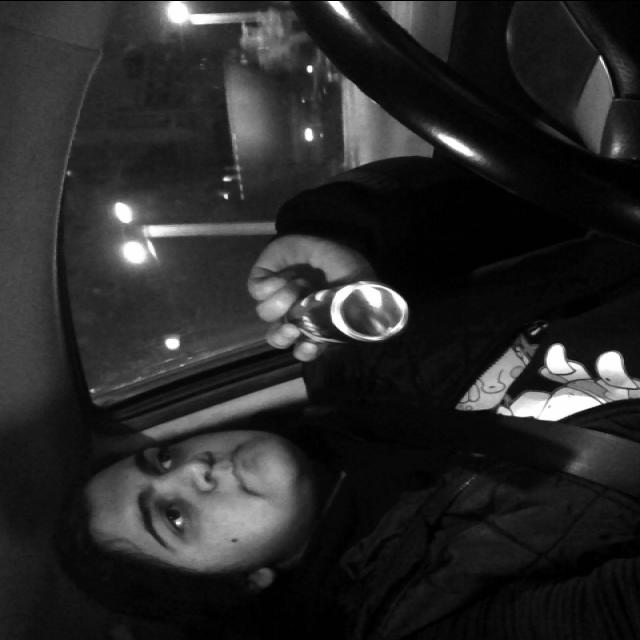drinking: (274, 281, 414, 357)
